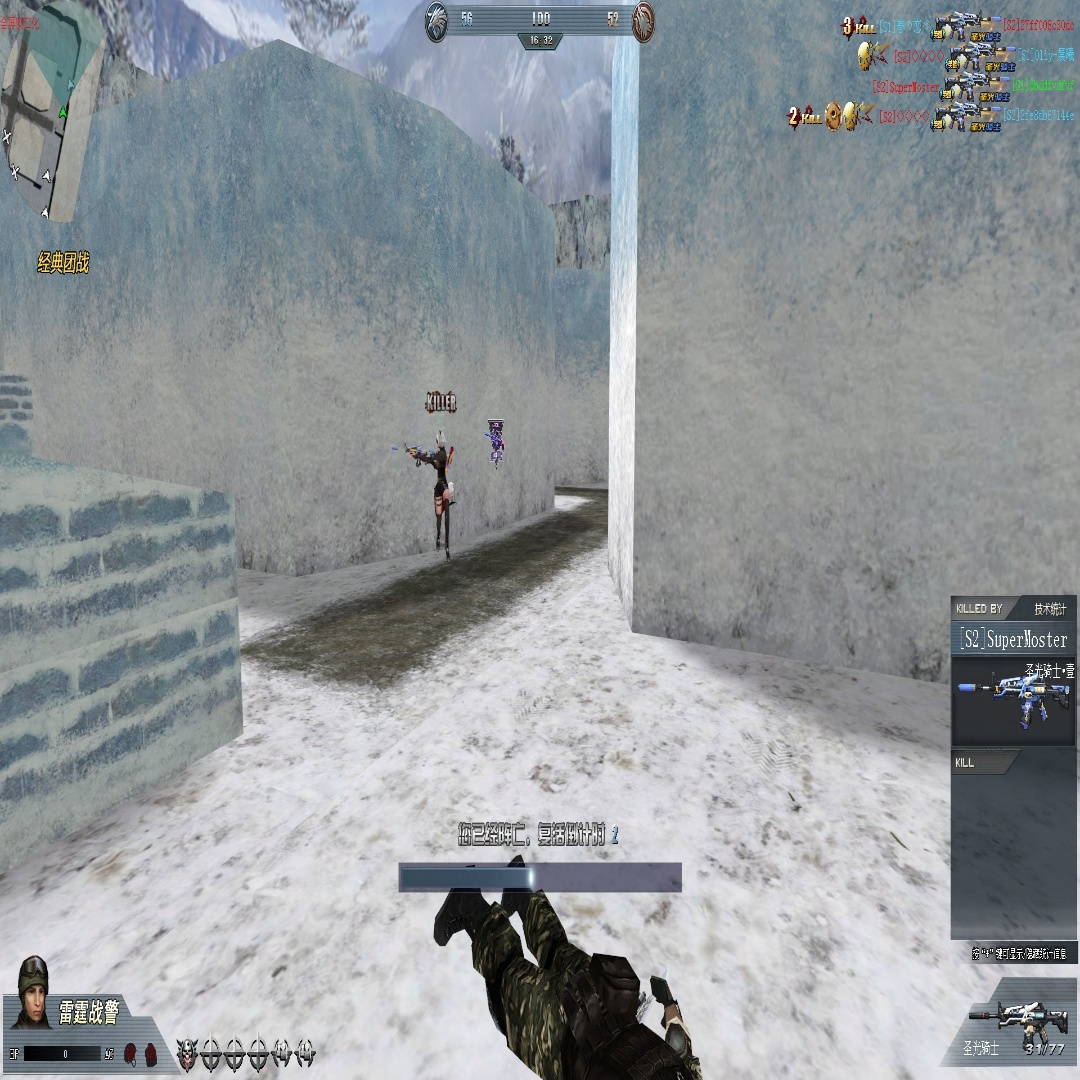t: (410, 436, 457, 553)
